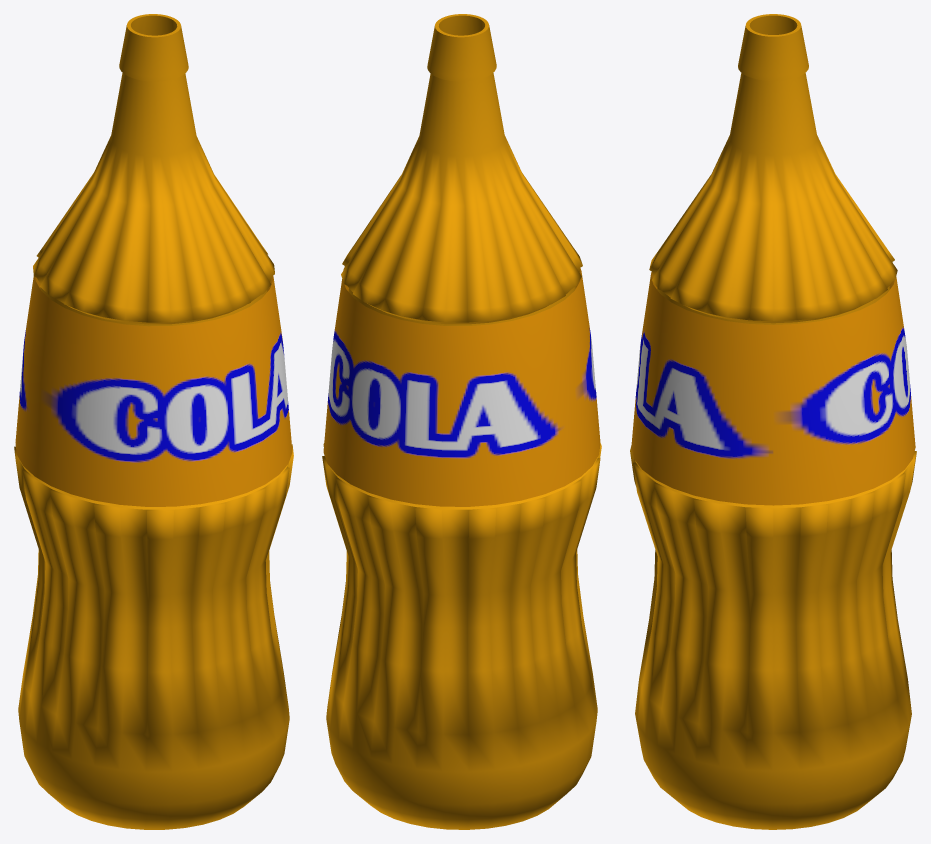
Rendered from fanta.object.tek.fbx.
The picture shows the model from 3 angles, left to right: view 1: azimuth 30°, elevation 25°; view 2: azimuth 150°, elevation 25°; view 3: azimuth 270°, elevation 25°; orthographic projection.
Parts seen in each view (by area): view 1: cola__yellow; view 2: cola__yellow; view 3: cola__yellow.
Boxes of the visible parts, bbox=[...] form: cola__yellow: bbox=[14, 14, 293, 829]; cola__yellow: bbox=[322, 14, 601, 829]; cola__yellow: bbox=[630, 14, 916, 829].
Size of the model in its own units: 72.05 by 218 by 74.41.
